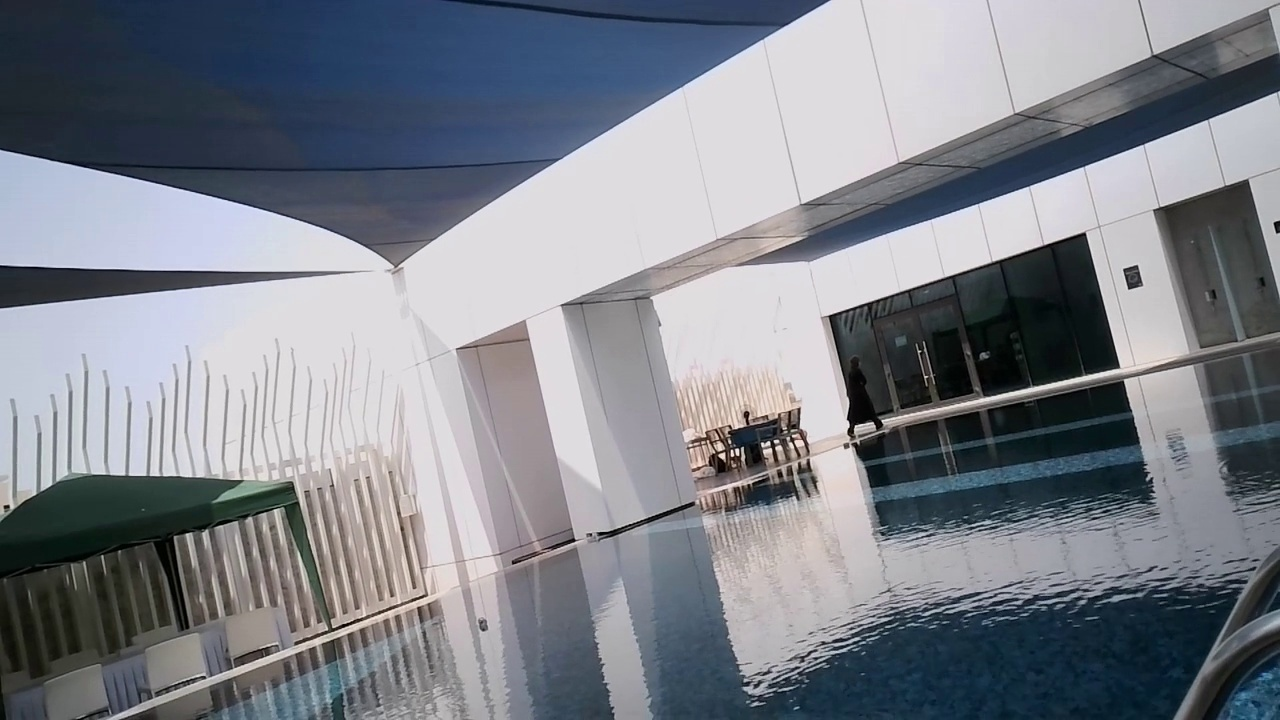debris: (476, 615, 487, 635), (841, 440, 851, 450)
